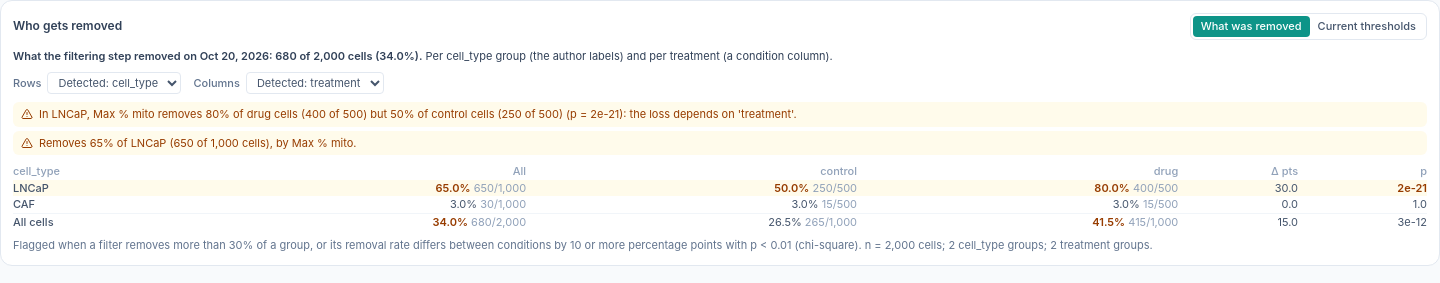
Test: RemovalAudit › shows the record of what the filtering step removed, the preview one click away
This screenshot has width=1440, height=283.
Step 1. Click the button "Current thresholds" → (1367, 26), box x1=1310 y1=16 x2=1424 y2=36
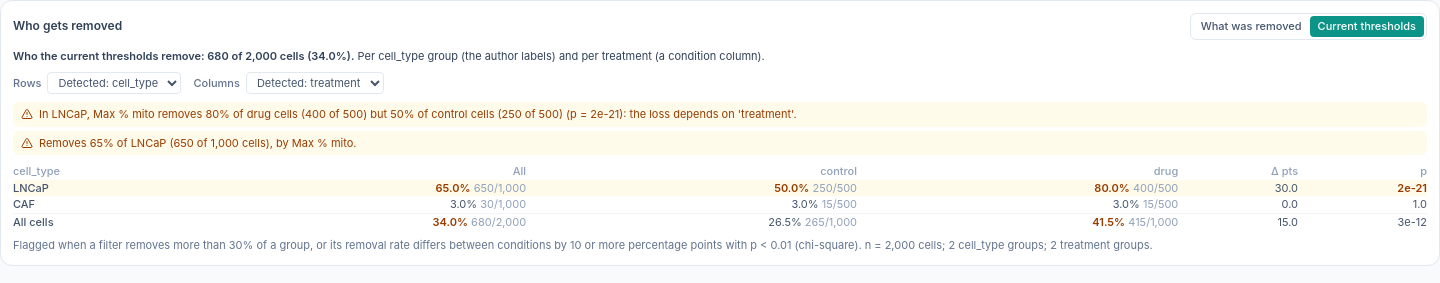
Expected: the element with test id "removal-audit" shows "Who the current thresholds remove", x1=13 y1=48 x2=354 y2=62
